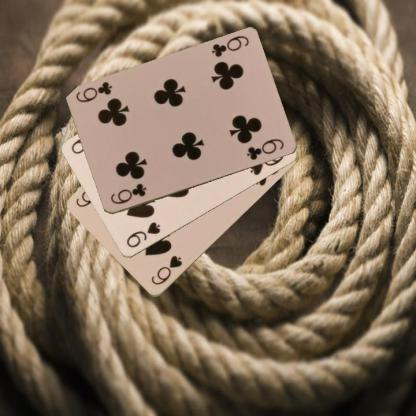6c: (209, 33, 250, 59), (107, 181, 148, 206)
6s: (148, 252, 184, 286)
9s: (124, 220, 162, 250)
